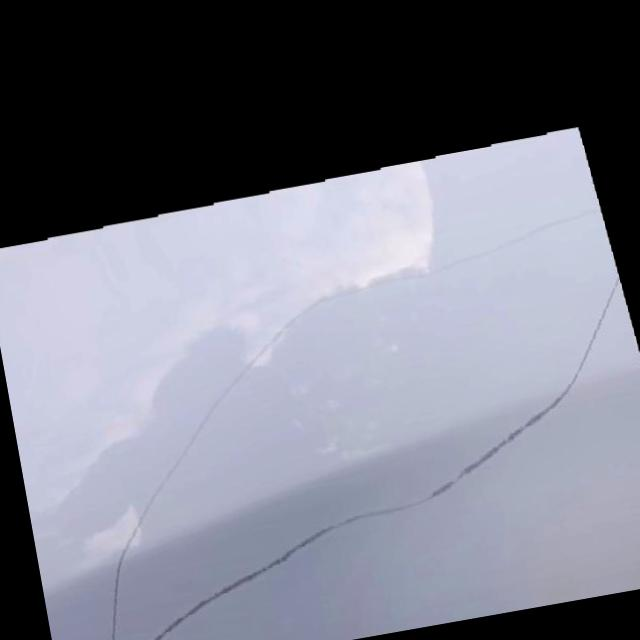crack: (74, 204, 558, 550), (127, 398, 563, 640)
